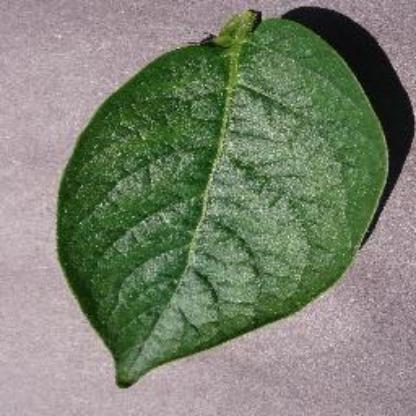Healthy-plant: (52, 9, 390, 392)
